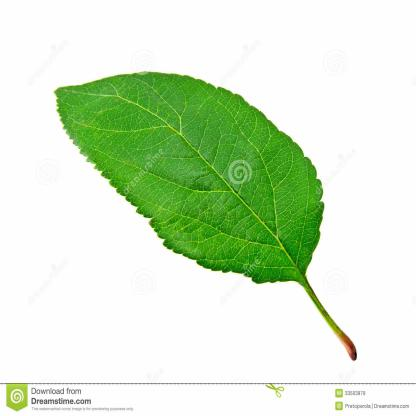Apple leaf: (46, 67, 341, 290)
